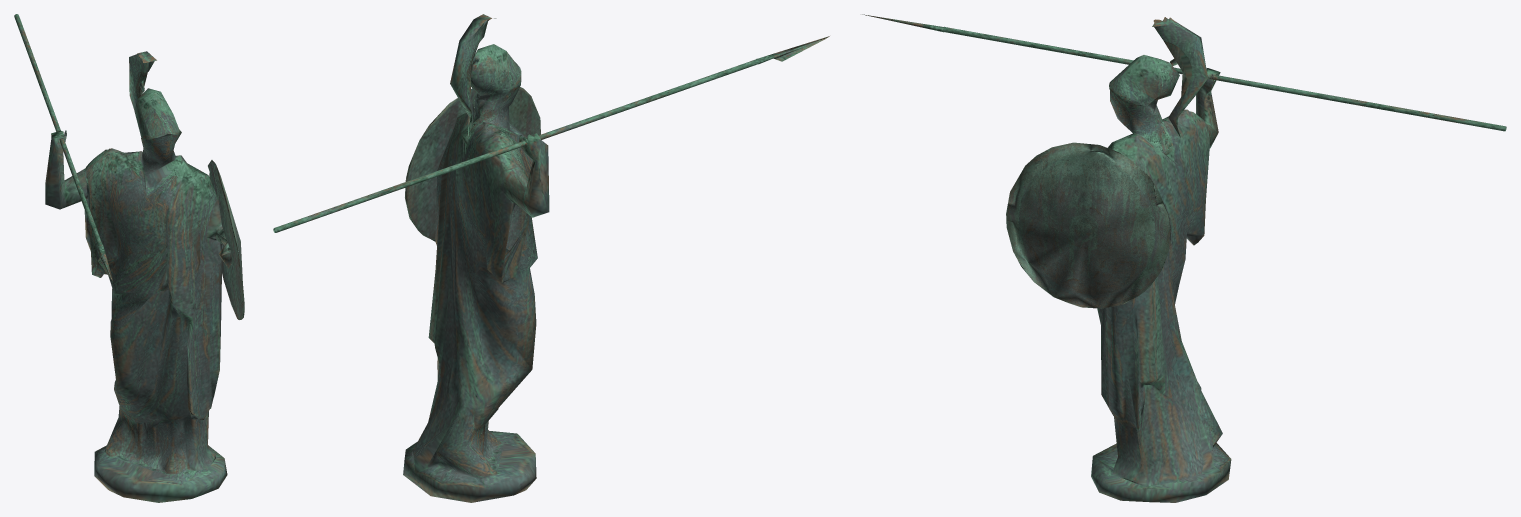
The model's file is PromachosLOD2.glb.
The picture shows the model from 3 angles, left to right: view 1: azimuth 30°, elevation 25°; view 2: azimuth 150°, elevation 25°; view 3: azimuth 270°, elevation 25°; orthographic projection. The views are drawn at different scales.
Visible parts, largest first — view 1: Original1:Group17380, Shield_Low2; view 2: Original1:Group17380, Shield_Low2; view 3: Original1:Group17380, Shield_Low2.
Boxes of the visible parts, x1,y1,x2,y2 form: Original1:Group17380: [14, 14, 231, 502]; Shield_Low2: [208, 160, 244, 319]; Original1:Group17380: [273, 14, 829, 502]; Shield_Low2: [405, 87, 540, 241]; Original1:Group17380: [862, 14, 1506, 502]; Shield_Low2: [1006, 142, 1170, 308].
Size of the model in its own units: 1.69 by 2.81 by 3.62.
Materials: 2 (2 with a texture image).
